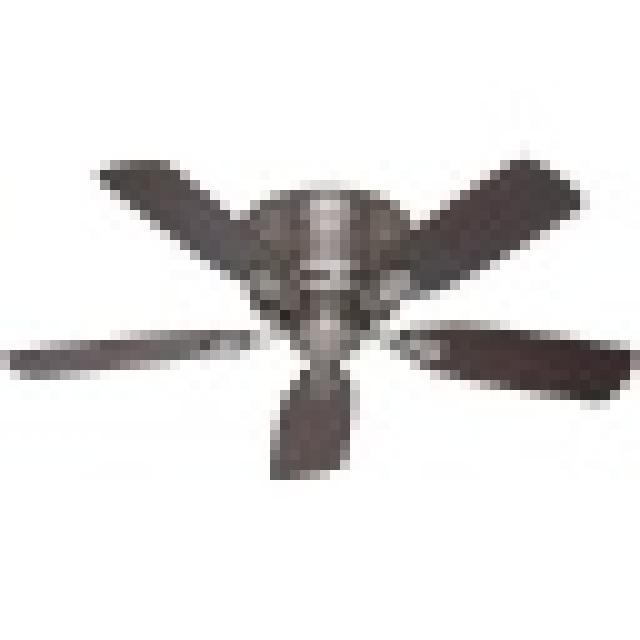Bulb: (19, 137, 640, 521)
